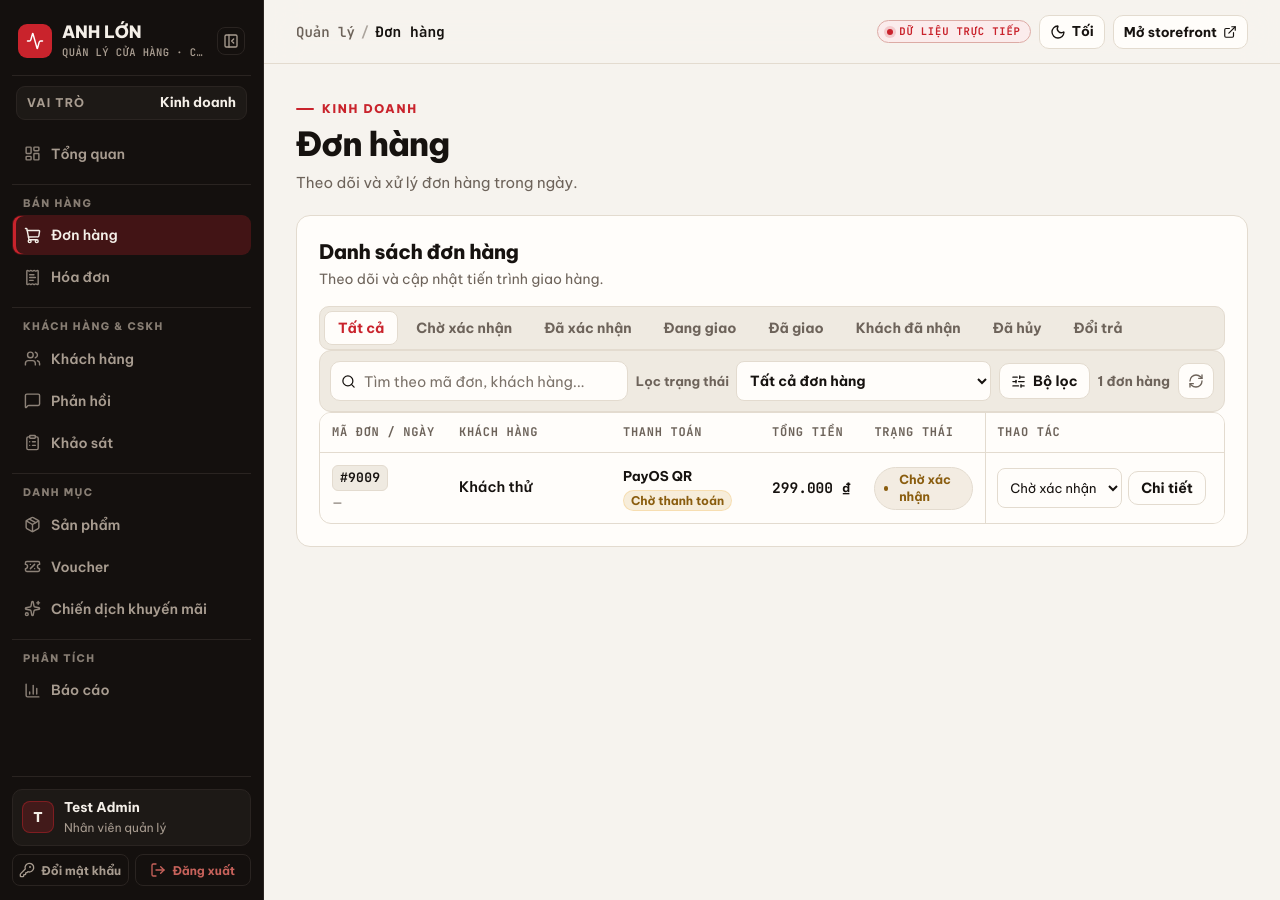
it: manager navigation › shows PayOS payment state separately from order processing and can refresh it
This screenshot has width=1280, height=900.
Expected: the text named "Trạng thái thanh toán" reads "Chờ thanh toán", [631, 493, 724, 508]
Click the button named "Tải lại trạng thái thanh toán" at (1196, 381), box [1178, 363, 1214, 399]
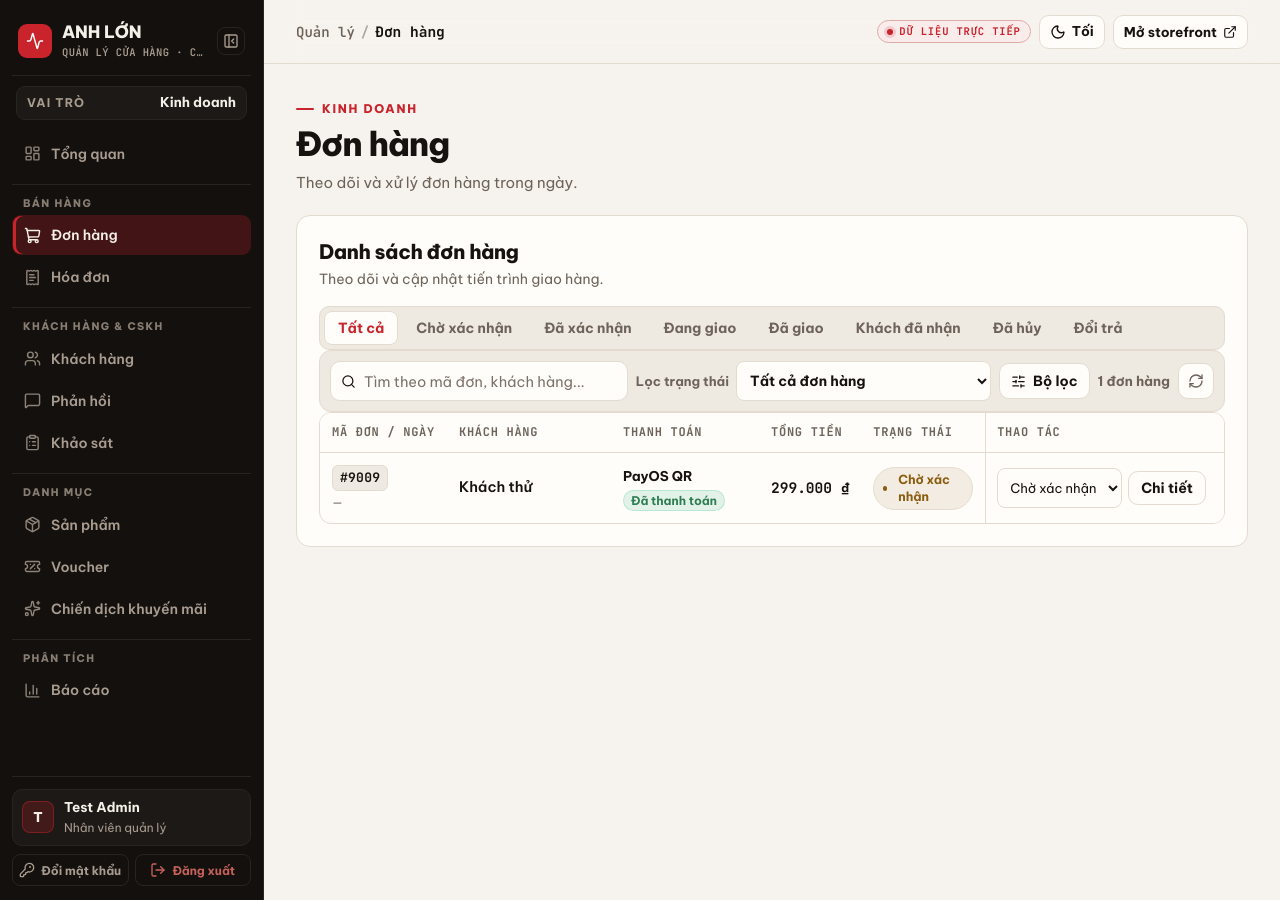
Expected: the tab "Chờ xác nhận" is shown, [402, 311, 526, 345]
Expected: the text named "Trạng thái thanh toán" reads "Đã thanh toán", [631, 493, 717, 508]
